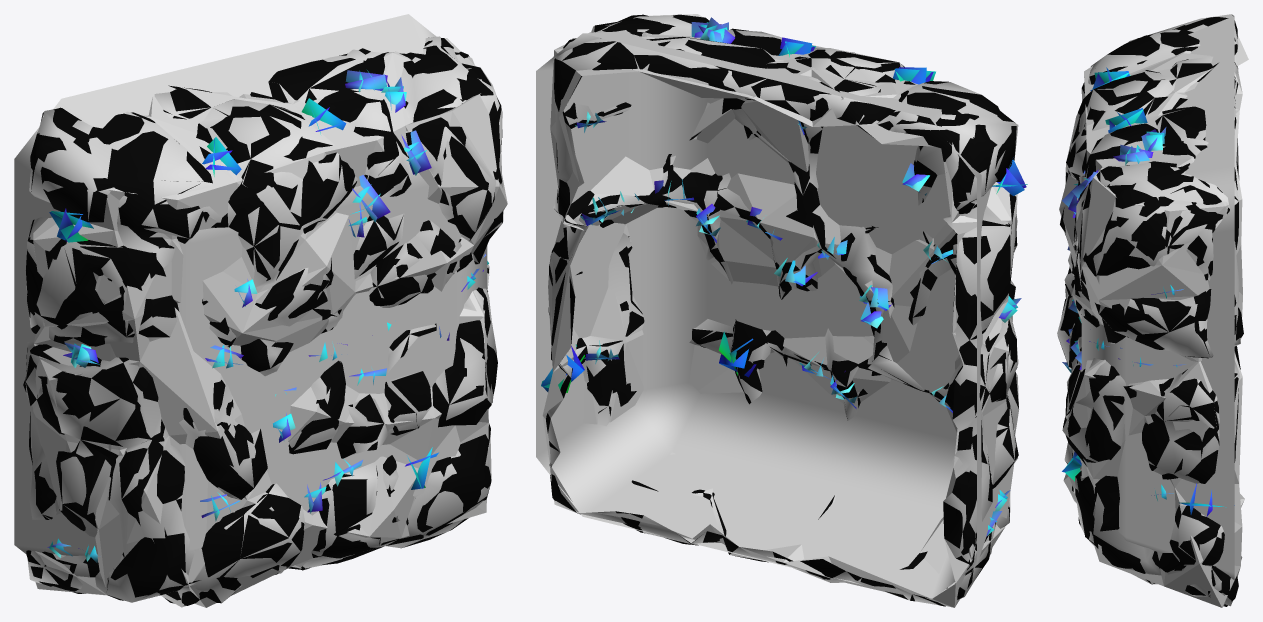
Rendered from italy_rockface_tall_wide.dae.
3 renders of one model, left to right at view 1: azimuth 30°, elevation 25°; view 2: azimuth 150°, elevation 25°; view 3: azimuth 270°, elevation 25°, orthographic. The views are drawn at different scales.
Parts seen in each view (by area): view 1: italy_rockface_tall_wide_a1100, italy_rockface_tall_wide_a200, italy_rockface_tall_wide_a100, italy_rockface_tall_wide_a50; view 2: italy_rockface_tall_wide_a50, italy_rockface_tall_wide_a1100, italy_rockface_tall_wide_a100, italy_rockface_tall_wide_a200; view 3: italy_rockface_tall_wide_a1100, italy_rockface_tall_wide_a50, italy_rockface_tall_wide_a200, italy_rockface_tall_wide_a100.
Part boxes in pixels (<box>): italy_rockface_tall_wide_a1100: <box>23,37,502,605</box>; italy_rockface_tall_wide_a200: <box>25,36,503,607</box>; italy_rockface_tall_wide_a100: <box>33,38,507,607</box>; italy_rockface_tall_wide_a50: <box>14,14,487,555</box>; italy_rockface_tall_wide_a50: <box>536,31,1000,598</box>; italy_rockface_tall_wide_a1100: <box>541,14,1027,606</box>; italy_rockface_tall_wide_a100: <box>542,14,1017,607</box>; italy_rockface_tall_wide_a200: <box>547,15,1019,605</box>; italy_rockface_tall_wide_a1100: <box>1058,15,1243,606</box>; italy_rockface_tall_wide_a50: <box>1081,16,1234,579</box>; italy_rockface_tall_wide_a200: <box>1057,14,1240,606</box>; italy_rockface_tall_wide_a100: <box>1059,35,1248,607</box>.
Bounding box in the file's own units: 13.08 × 5.26 × 13.35.
